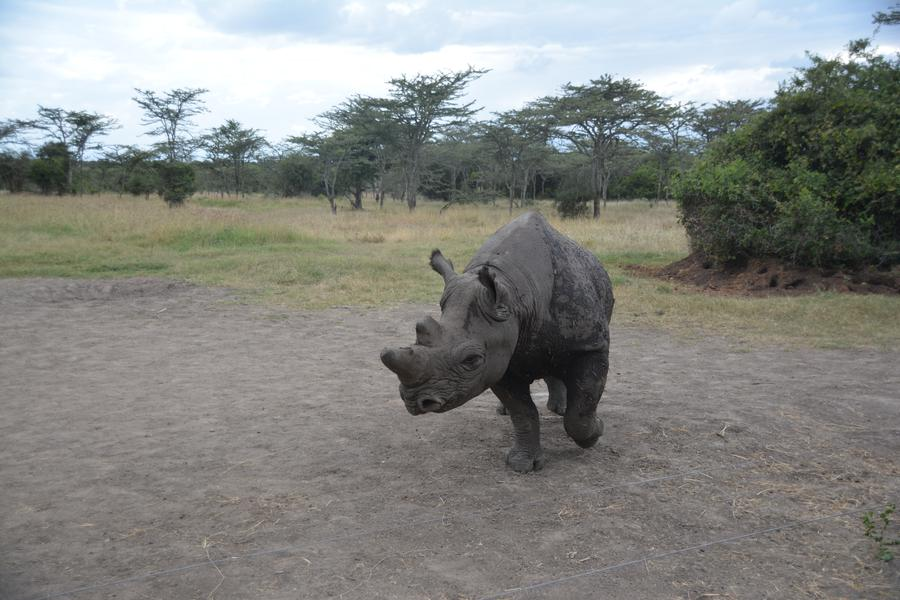rhino: (451, 202, 624, 472)
